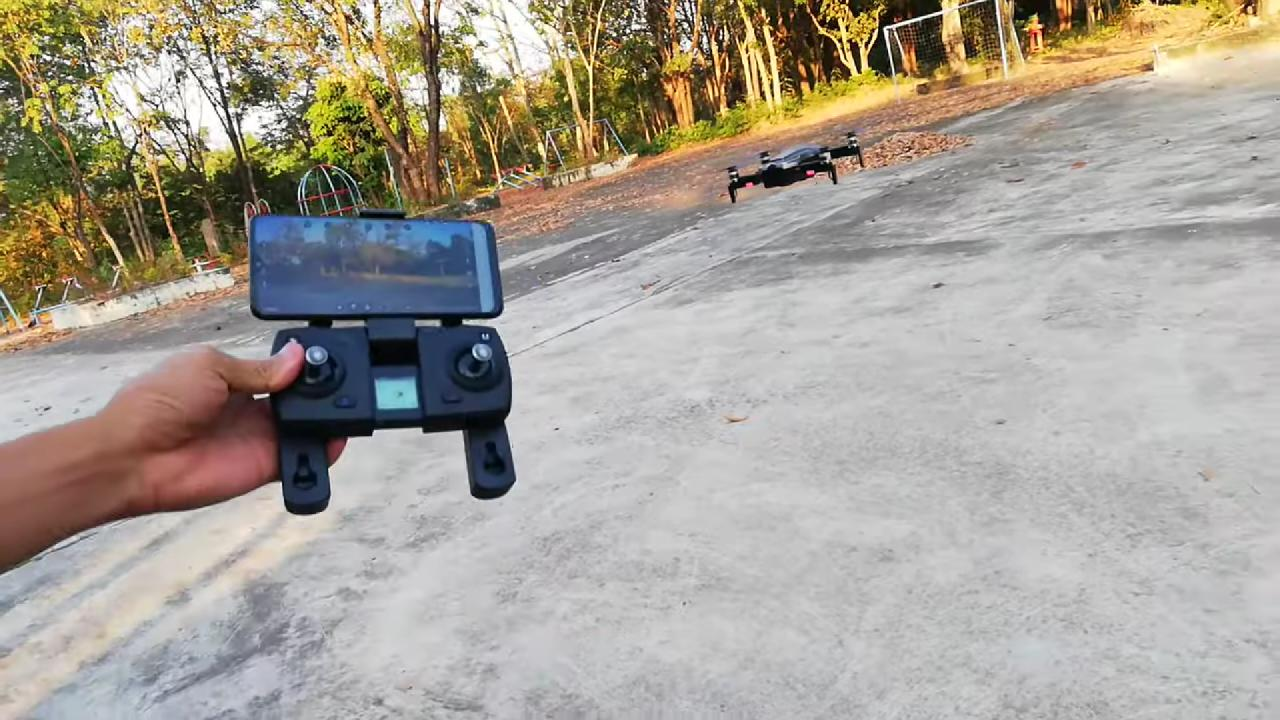Drone: (704, 123, 883, 214)
